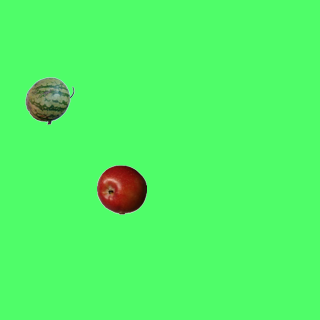Apple Braeburn: (96, 164, 146, 214)
Watermelon: (24, 75, 74, 125)
